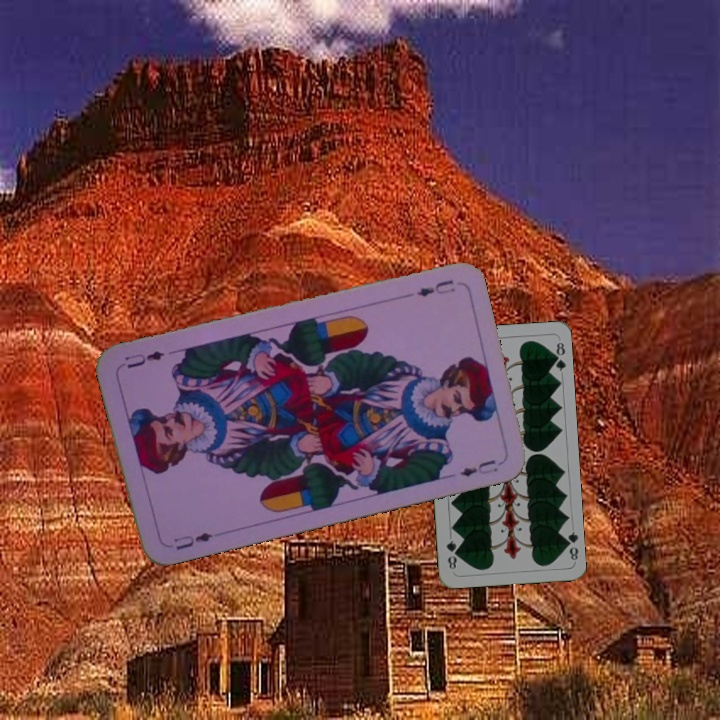EU: (171, 528, 216, 553), (413, 275, 458, 299)
G8: (560, 528, 581, 562)
